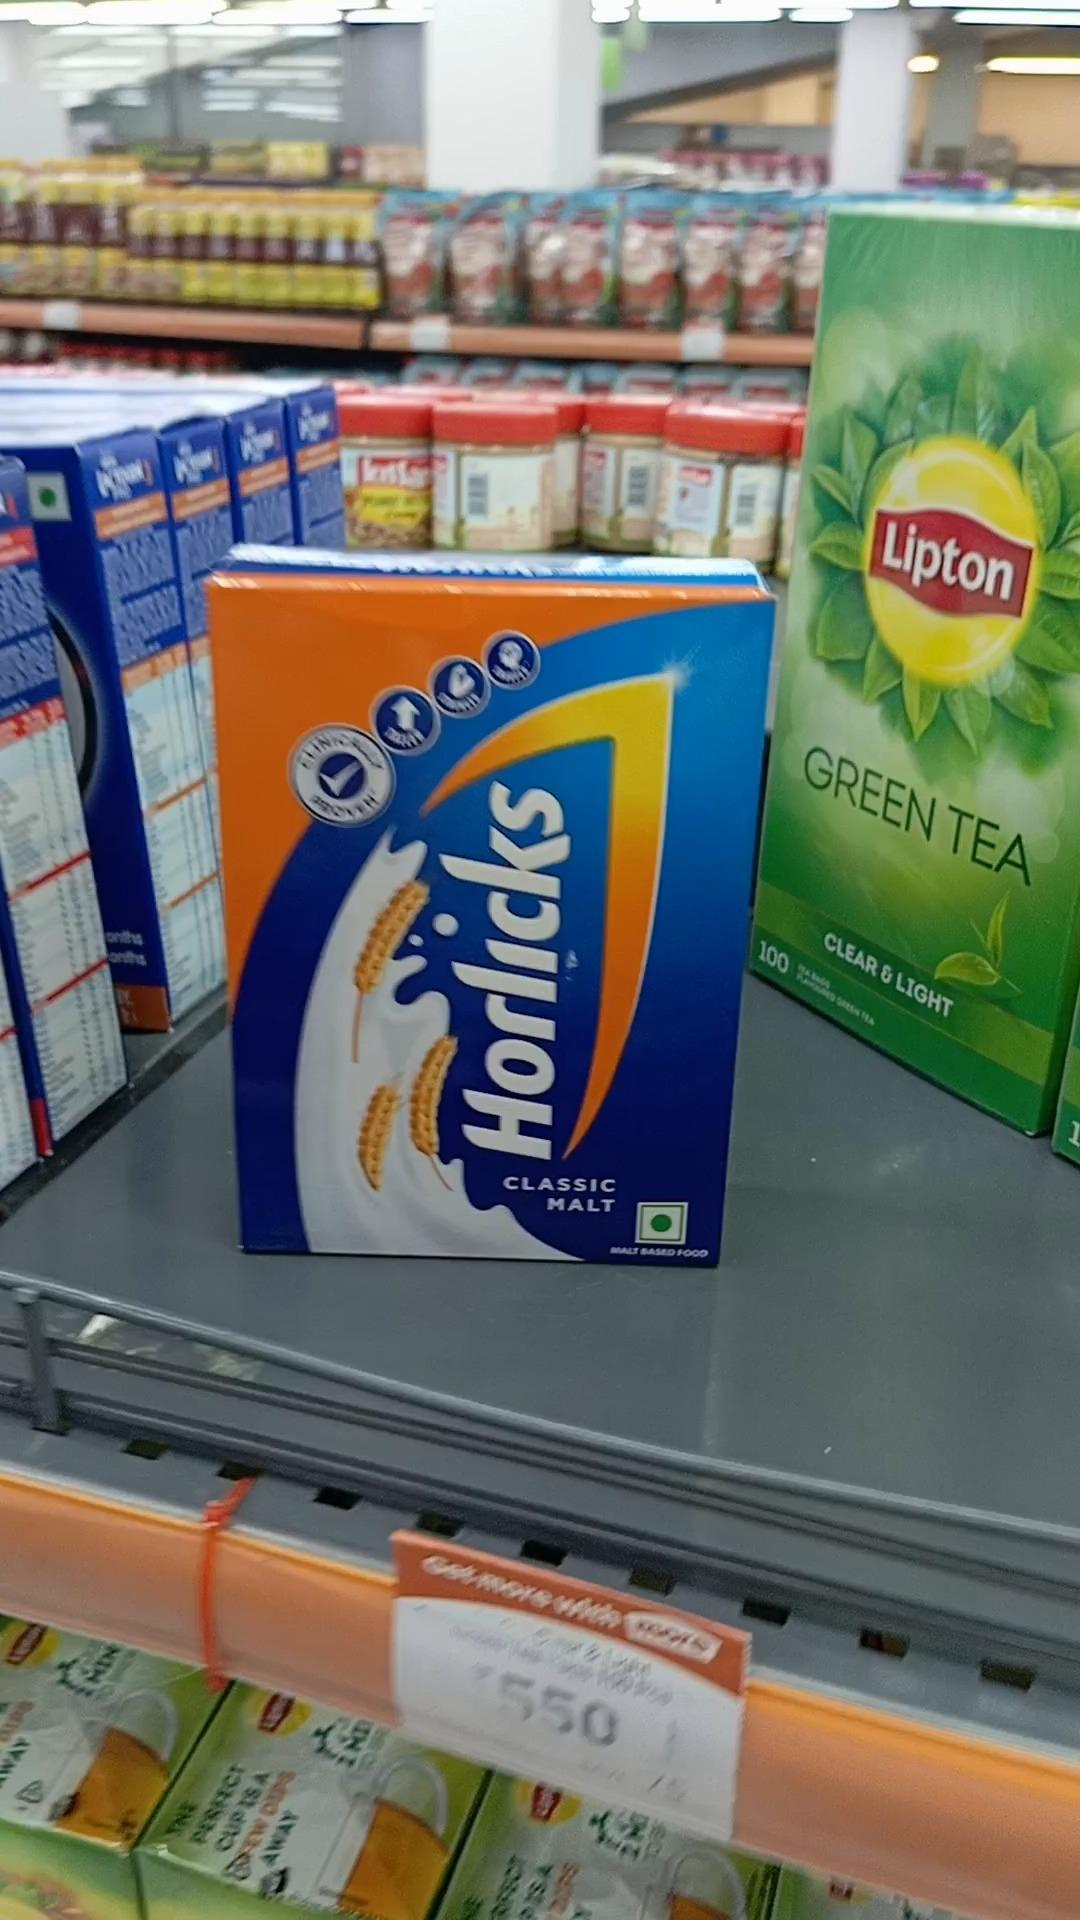HORLICK_CLASSIC_MALT_500_G_PACK: (220, 579, 754, 1269)
